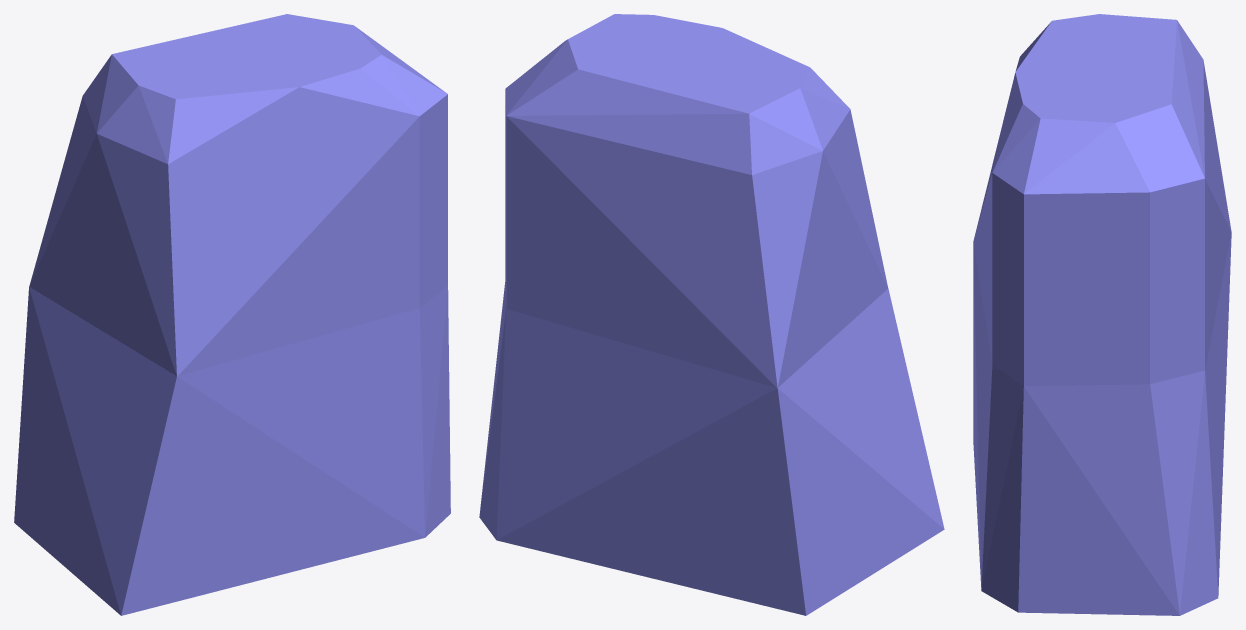
Rendered from Cliff_Sediment_01_Collider_01.FBX.
3 views of the same model, side by side, from view 1: azimuth 30°, elevation 25°; view 2: azimuth 150°, elevation 25°; view 3: azimuth 270°, elevation 25° (orthographic).
Parts seen in each view (by area): view 1: COLLIDER2, COLLIDER1; view 2: COLLIDER2, COLLIDER1; view 3: COLLIDER2, COLLIDER1.
Boxes of the visible parts, x1,y1,x2,y2 form: COLLIDER2: [29, 14, 447, 376]; COLLIDER1: [14, 286, 450, 615]; COLLIDER2: [505, 14, 888, 387]; COLLIDER1: [479, 282, 944, 615]; COLLIDER2: [973, 14, 1231, 386]; COLLIDER1: [973, 233, 1231, 615].
Bounding box in the file's own units: 199 × 246 × 124.
